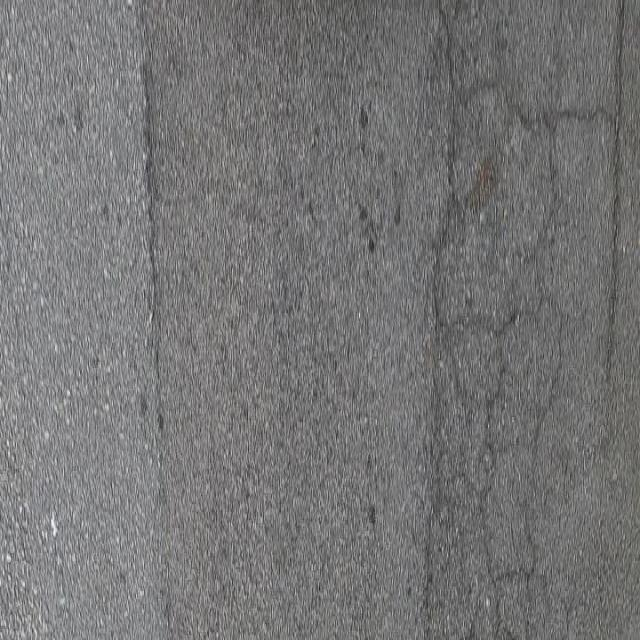cracks: (401, 0, 627, 640), (90, 0, 189, 639)
